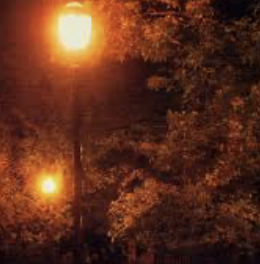HPS: (55, 6, 99, 71)
